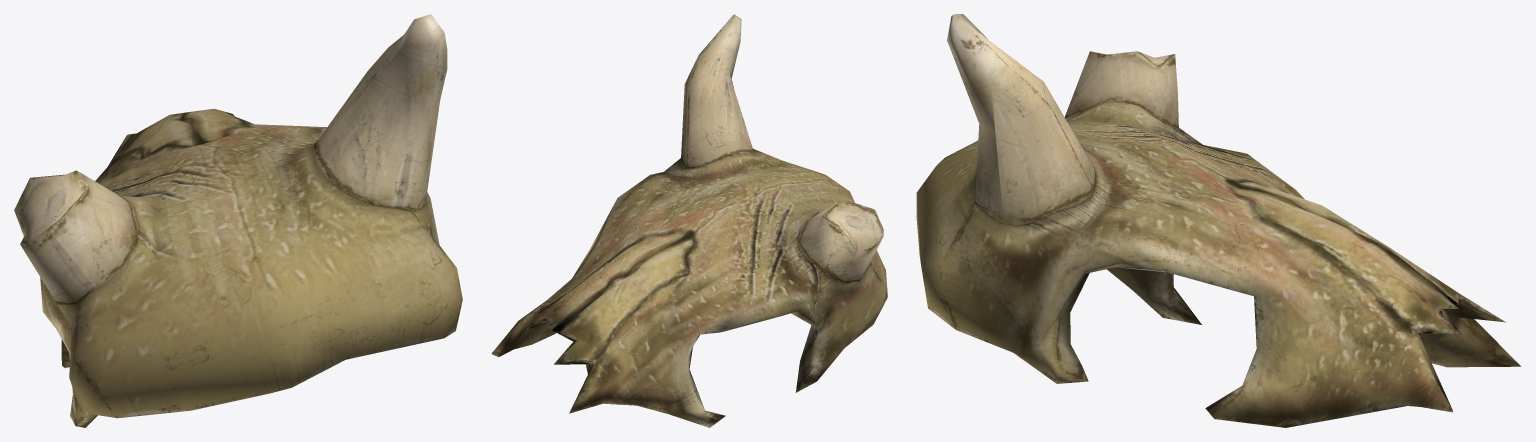
The model's file is Bone_Shield.fbx.
3 views of the same model, side by side, from view 1: azimuth 30°, elevation 25°; view 2: azimuth 150°, elevation 25°; view 3: azimuth 270°, elevation 25° (orthographic). The views are drawn at different scales.
Visible parts, largest first — view 1: Group12905; view 2: Group12905; view 3: Group12905.
Part boxes in pixels (<box>): Group12905: <box>14,14,462,427</box>; Group12905: <box>491,14,887,427</box>; Group12905: <box>916,14,1520,427</box>.
Size of the model in its own units: 0.6436 by 0.648 by 0.8186.
